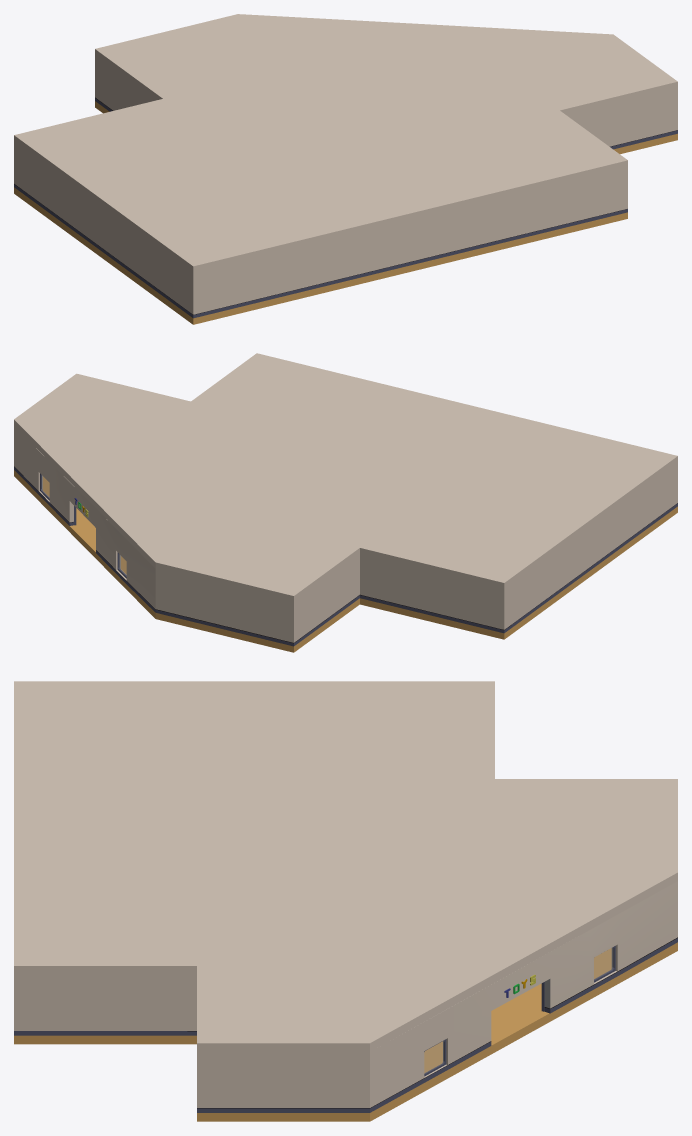
Rendered from Tienda cerrada 1.fbx.
The picture shows the model from 3 angles, top to bottom: view 1: azimuth 30°, elevation 25°; view 2: azimuth 150°, elevation 25°; view 3: azimuth 270°, elevation 25°; orthographic projection. The views are drawn at different scales.
Visible parts, largest first — view 1: Techo1, Pared_66x12x1, Pared_1x12x46, Piso_1, Pared3_1x12x16, Pared_1x12x16, Esquina_1x12x1, Esquina7_1x12x1, Esquina5_1x12x1; view 2: Techo1, Pared_1x12x46, Pared2_21x12x1, Pared_21x12x1, Entrada1_0_5x12x53, Piso_1, Pared_1x12x16, Esquina2_1x12x1, Esquina4_1x12x1; view 3: Techo1, Entrada1_0_5x12x53, Pared2_1x12x16, Pared4_1x12x16, Piso_1, Esquina5_1x12x1, Esquina7_1x12x1.
Boxes of the visible parts, <box> form: Techo1: <box>14,14,677,272</box>; Pared_66x12x1: <box>205,170,615,315</box>; Pared_1x12x46: <box>21,147,185,312</box>; Piso_1: <box>14,101,677,324</box>; Pared3_1x12x16: <box>567,91,665,149</box>; Pared_1x12x16: <box>102,61,155,111</box>; Esquina_1x12x1: <box>186,268,205,318</box>; Esquina7_1x12x1: <box>665,88,677,136</box>; Esquina5_1x12x1: <box>615,167,627,215</box>; Techo1: <box>14,353,677,602</box>; Pared_1x12x46: <box>511,467,670,627</box>; Pared2_21x12x1: <box>155,569,281,643</box>; Pared_21x12x1: <box>366,555,492,630</box>; Entrada1_0_5x12x53: <box>14,426,155,612</box>; Piso_1: <box>14,470,677,652</box>; Pared_1x12x16: <box>301,557,356,640</box>; Esquina2_1x12x1: <box>492,584,511,633</box>; Esquina4_1x12x1: <box>282,597,300,646</box>; Techo1: <box>14,681,677,1051</box>; Entrada1_0_5x12x53: <box>370,881,677,1112</box>; Pared2_1x12x16: <box>33,974,187,1035</box>; Pared4_1x12x16: <box>216,1052,369,1112</box>; Piso_1: <box>14,942,677,1121</box>; Esquina5_1x12x1: <box>14,974,33,1035</box>; Esquina7_1x12x1: <box>197,1052,215,1112</box>.
Size of the model in its own units: 89 by 9 by 69.
